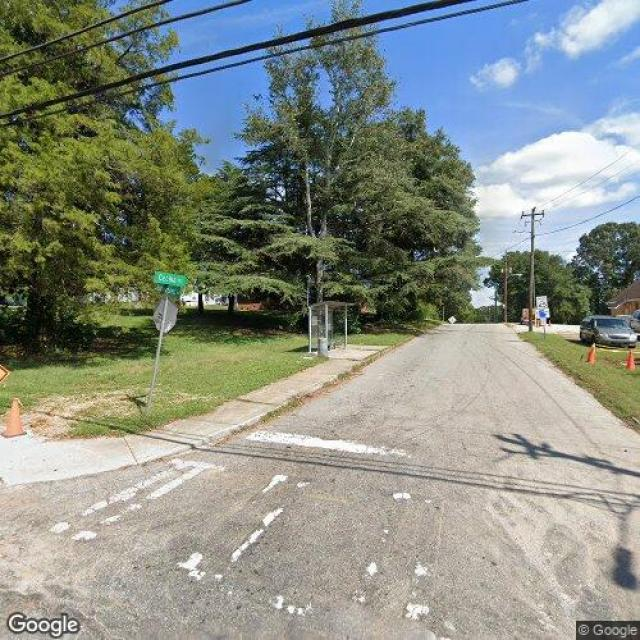shelter: (308, 301, 359, 356)
trash_can: (318, 337, 328, 357)
